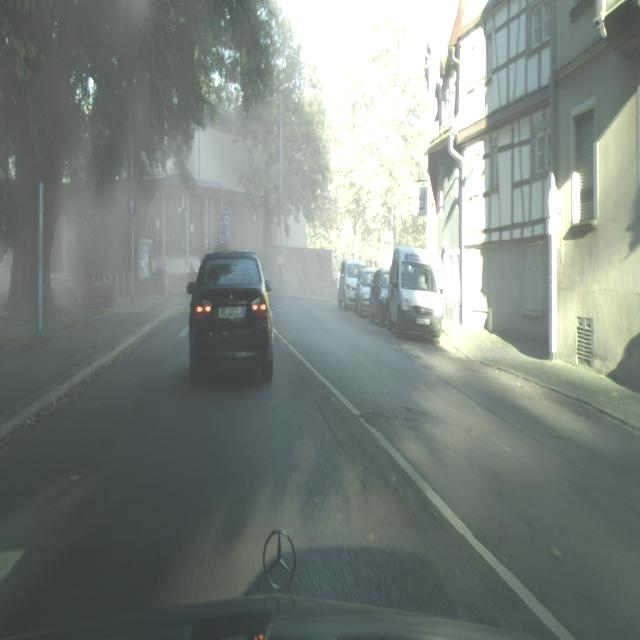car: (386, 244, 444, 345)
person: (187, 250, 274, 384), (337, 259, 366, 310), (369, 269, 390, 326), (355, 268, 375, 318)
